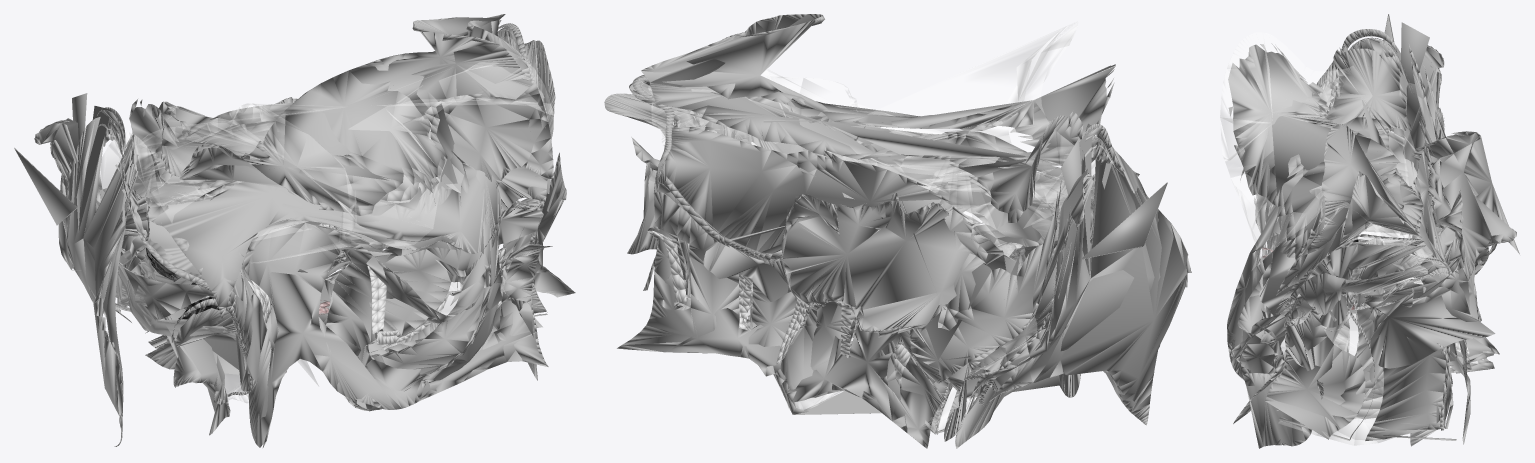
3 renders of one model, left to right at view 1: azimuth 30°, elevation 25°; view 2: azimuth 150°, elevation 25°; view 3: azimuth 270°, elevation 25°, orthographic. The views are drawn at different scales.
Parts seen in each view (by area): view 1: Mesh_9.003 (×5), Merged Objects 1; view 2: Mesh_9.003 (×4), Merged Objects 1; view 3: Mesh_9.003 (×4), Merged Objects 1.
Part boxes in pixels (left/top/right/bottom): Mesh_9.003 (×5): left=14, top=14, right=575, bottom=447; Merged Objects 1: left=241, top=223, right=505, bottom=372; Mesh_9.003 (×4): left=604, top=14, right=1191, bottom=448; Merged Objects 1: left=651, top=125, right=1060, bottom=375; Mesh_9.003 (×4): left=1220, top=14, right=1519, bottom=448; Merged Objects 1: left=1269, top=204, right=1469, bottom=446.
Bounding box in the file's own units: 45.37 × 27.81 × 25.43.
8 materials, 3 textured.
